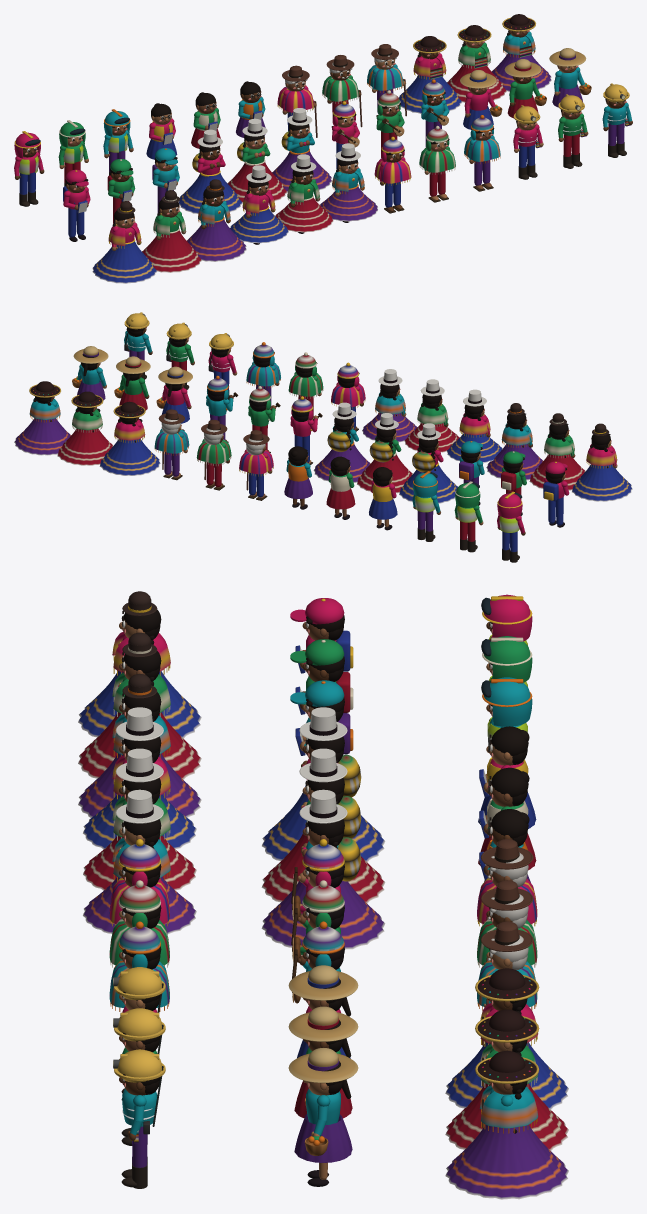
The model's file is personajes.glb.
3 views of the same model, one above another, from view 1: azimuth 30°, elevation 25°; view 2: azimuth 150°, elevation 25°; view 3: azimuth 270°, elevation 25° (orthographic). The views are drawn at different scales.
Visible parts, largest first — view 1: pj_00_chola_pacena_0, pj_02_chola_pacena_2, pj_01_chola_pacena_1, pj_03_chola_valle_0, pj_05_chola_valle_2, pj_04_chola_valle_1, pj_15_comerciante_0, pj_33_tejedora_0, pj_35_tejedora_2, pj_17_comerciante_2, pj_34_tejedora_1, pj_16_comerciante_1 (+24 smaller); view 2: pj_33_tejedora_0, pj_00_chola_pacena_0, pj_35_tejedora_2, pj_34_tejedora_1, pj_17_comerciante_2, pj_16_comerciante_1, pj_15_comerciante_0, pj_03_chola_valle_0, pj_02_chola_pacena_2, pj_01_chola_pacena_1, pj_04_chola_valle_1, pj_05_chola_valle_2 (+24 smaller); view 3: pj_35_tejedora_2, pj_17_comerciante_2, pj_23_agricultora_2, pj_34_tejedora_1, pj_00_chola_pacena_0, pj_01_chola_pacena_1, pj_33_tejedora_0, pj_15_comerciante_0, pj_16_comerciante_1, pj_05_chola_valle_2, pj_04_chola_valle_1, pj_03_chola_valle_0 (+24 smaller).
Boxes of the visible parts, x1,y1,x2,y2 form: pj_00_chola_pacena_0: [92, 201, 157, 283]; pj_02_chola_pacena_2: [187, 179, 246, 261]; pj_01_chola_pacena_1: [142, 190, 201, 272]; pj_03_chola_valle_0: [230, 165, 288, 244]; pj_05_chola_valle_2: [320, 143, 377, 222]; pj_04_chola_valle_1: [275, 154, 333, 233]; pj_15_comerciante_0: [178, 129, 242, 213]; pj_33_tejedora_0: [399, 36, 462, 113]; pj_35_tejedora_2: [491, 14, 551, 91]; pj_17_comerciante_2: [272, 108, 331, 191]; pj_34_tejedora_1: [447, 25, 506, 102]; pj_16_comerciante_1: [227, 118, 287, 202]; pj_33_tejedora_0: [99, 401, 160, 475]; pj_00_chola_pacena_0: [572, 423, 632, 501]; pj_35_tejedora_2: [14, 381, 71, 455]; pj_34_tejedora_1: [57, 391, 113, 465]; pj_17_comerciante_2: [313, 402, 370, 482]; pj_16_comerciante_1: [357, 413, 412, 493]; pj_15_comerciante_0: [399, 423, 457, 503]; pj_03_chola_valle_0: [446, 389, 502, 462]; pj_02_chola_pacena_2: [486, 403, 542, 480]; pj_01_chola_pacena_1: [529, 413, 585, 490]; pj_04_chola_valle_1: [404, 379, 459, 452]; pj_05_chola_valle_2: [362, 369, 417, 442]; pj_35_tejedora_2: [445, 1050, 568, 1199]; pj_17_comerciante_2: [261, 789, 385, 949]; pj_23_agricultora_2: [288, 1048, 358, 1186]; pj_34_tejedora_1: [445, 1009, 568, 1150]; pj_00_chola_pacena_0: [78, 591, 201, 738]; pj_01_chola_pacena_1: [78, 632, 201, 779]; pj_33_tejedora_0: [445, 968, 568, 1109]; pj_15_comerciante_0: [262, 707, 385, 862]; pj_16_comerciante_1: [261, 748, 385, 903]; pj_05_chola_valle_2: [83, 789, 196, 934]; pj_04_chola_valle_1: [83, 748, 196, 890]; pj_03_chola_valle_0: [83, 707, 196, 849].
Bounding box in the file's own units: 10.43 × 1.35 × 4.28.
